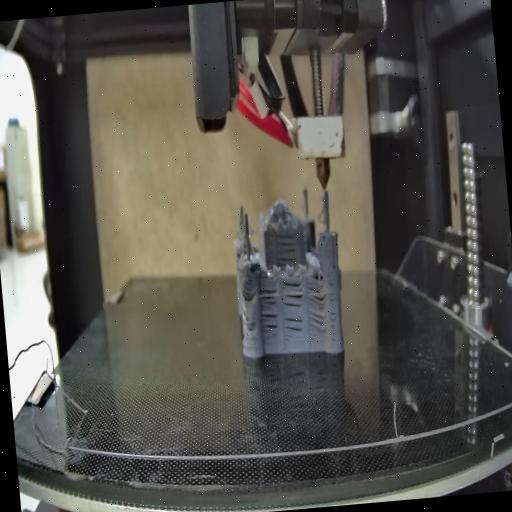cracks: (274, 228, 300, 262), (326, 280, 339, 342), (280, 274, 303, 308), (305, 278, 328, 306), (238, 272, 258, 304), (260, 310, 280, 340), (307, 310, 329, 336), (258, 280, 278, 308), (283, 312, 305, 336), (244, 309, 258, 332)
